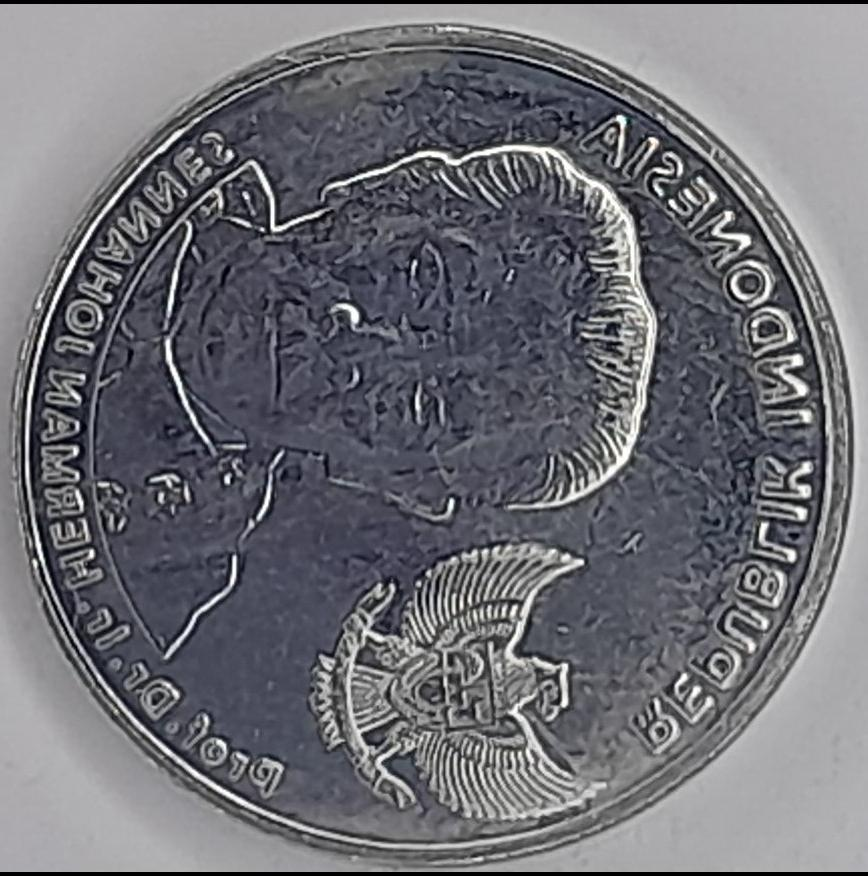coin_100_e2016: (4, 18, 856, 865)
